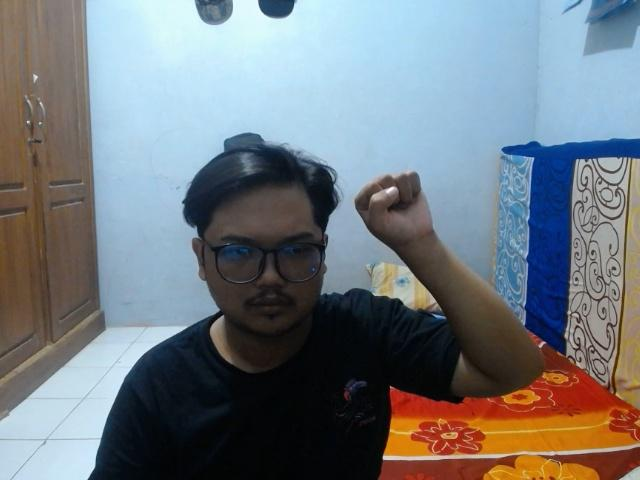Grab: (349, 166, 440, 254)
